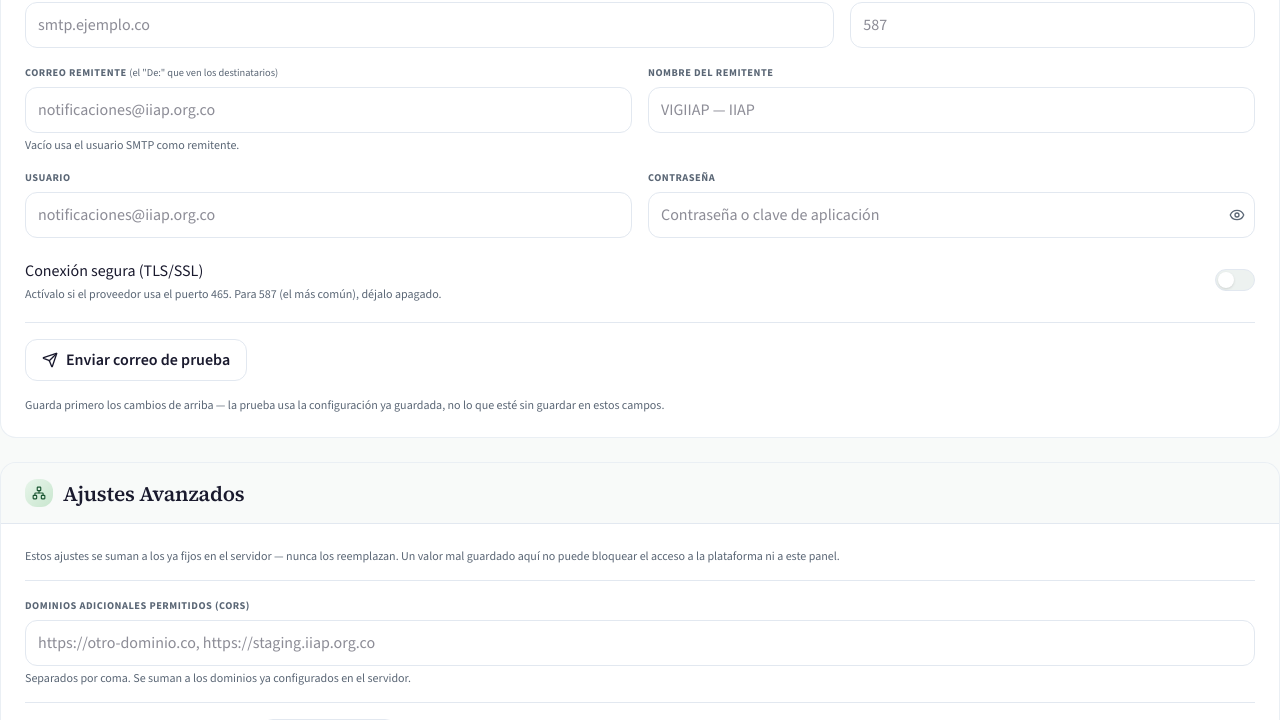
Test: Configuracion — SMTP (solo super_admin) › si el correo de prueba falla, muestra el mensaje de error del backend
(page scrolled)
Click the button "Enviar correo de prueba": (136, 360) [25,339,247,381]
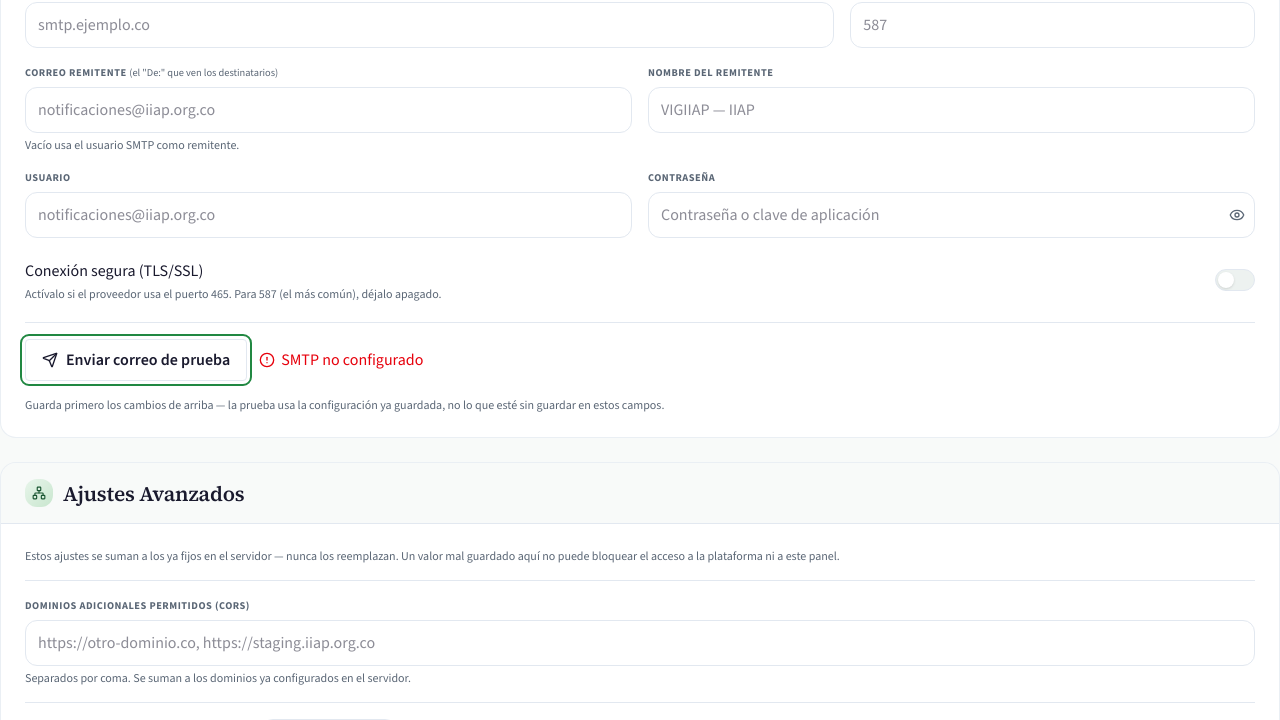
Expected: the text "SMTP no configurado" is shown, [259,348,423,372]
